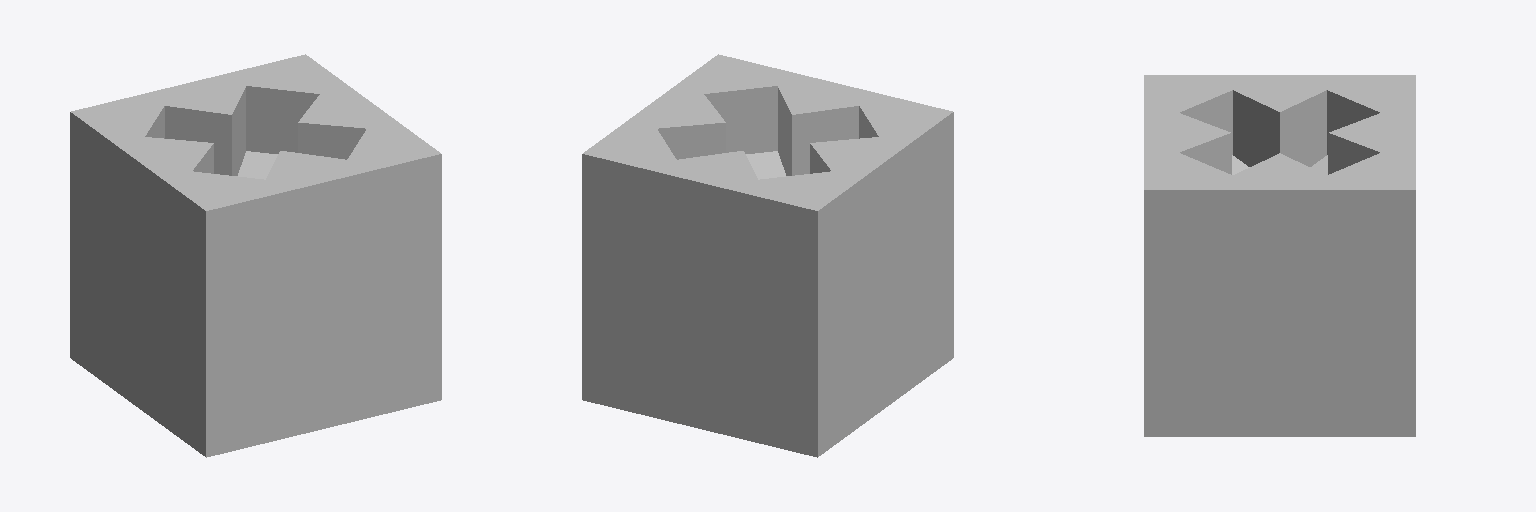
File: Cross_cube_bottle_rotated45_preprocessed.obj
3 renders of one model, left to right at view 1: azimuth 30°, elevation 25°; view 2: azimuth 150°, elevation 25°; view 3: azimuth 270°, elevation 25°, orthographic.
Bounding box in the file's own units: 0.08 × 0.08 × 0.08.